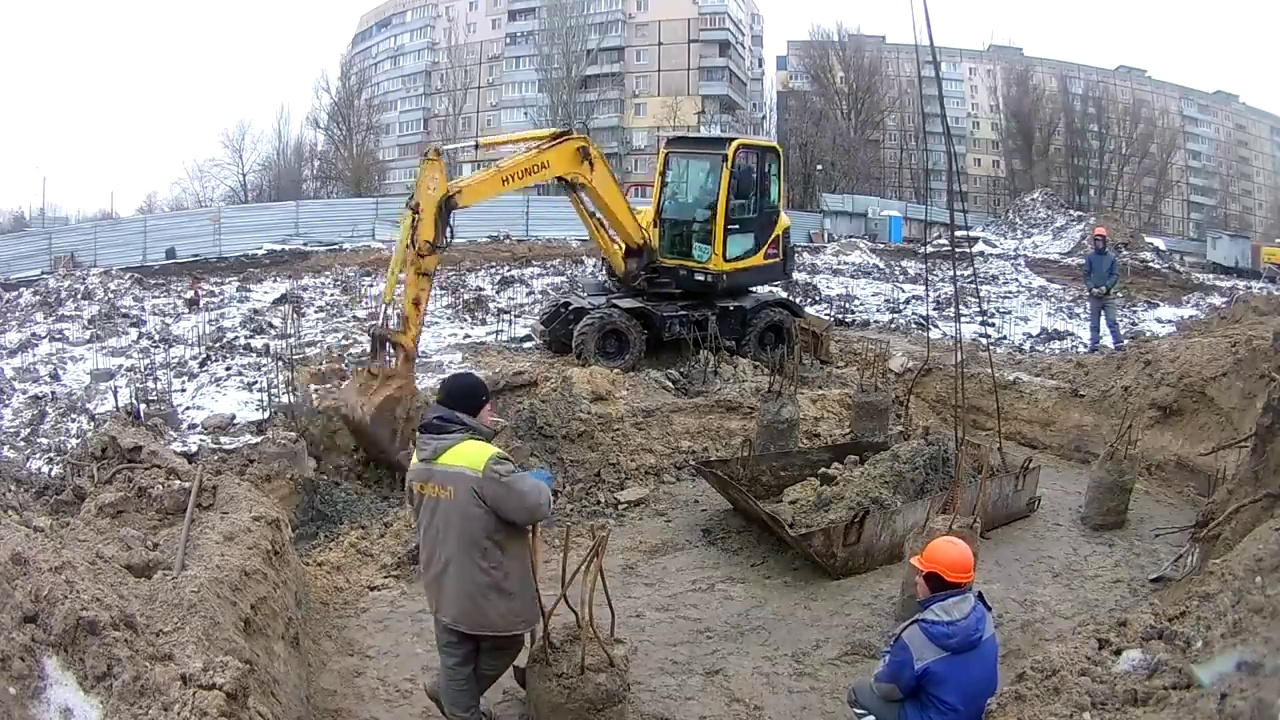helmet: (908, 535, 978, 583), (1092, 228, 1108, 238)
helmet-off: (427, 369, 500, 457)
helmet-on: (908, 532, 984, 616), (1091, 226, 1108, 255)
person: (407, 369, 550, 720), (849, 532, 1005, 720), (1081, 227, 1126, 355)
